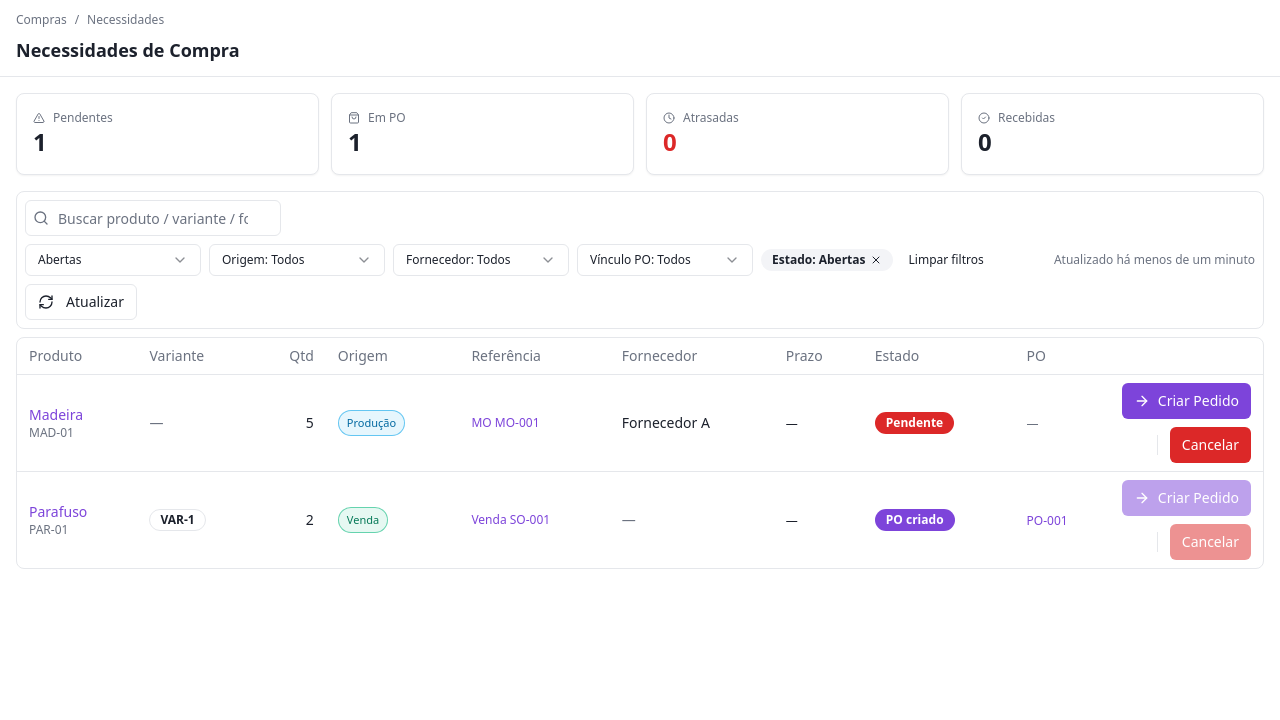
Test: PurchaseNeedsList › supports search filtering by product
This screenshot has width=1280, height=720.
Check: the link "Madeira" is shown, box x1=29 y1=405 x2=83 y2=424
Type "Parafuso" into the field with placeholder "Buscar produto / variante / fornecedor / SO / MO…".
click(153, 218); type("Parafuso")  # box x1=25 y1=200 x2=281 y2=236
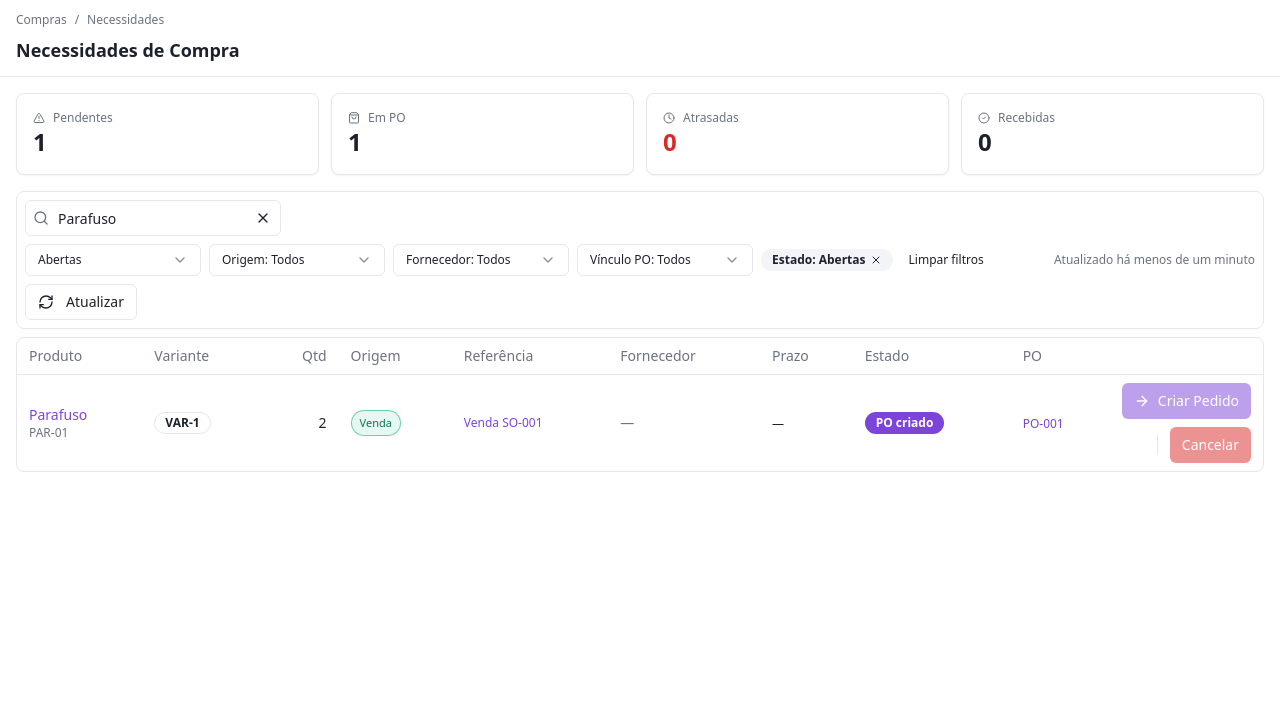
Check: the link "Parafuso" is shown, box x1=29 y1=405 x2=87 y2=424
Check: the link "Madeira" is gone
